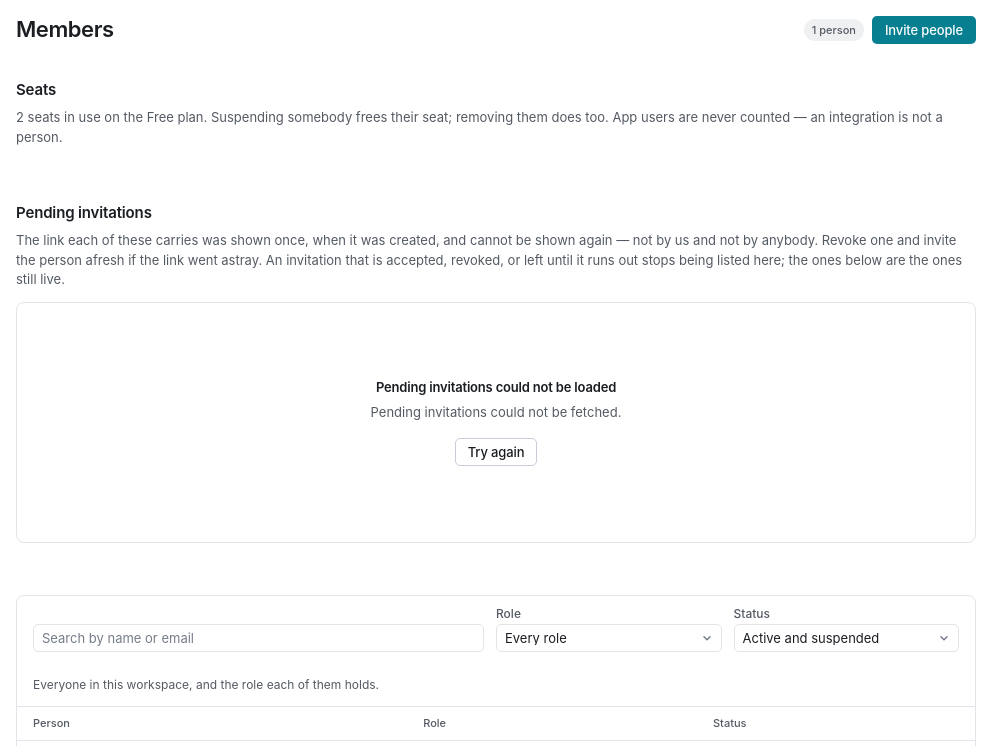
Test: MemberSettings · pending invitations › says so when the list cannot be fetched, and asks again when told to
This screenshot has width=993, height=746.
Expected: the text "Pending invitations could not be loaded" is shown, [376,378,616,395]
Click the button "Try again" at (496, 452), box [455,438,537,466]
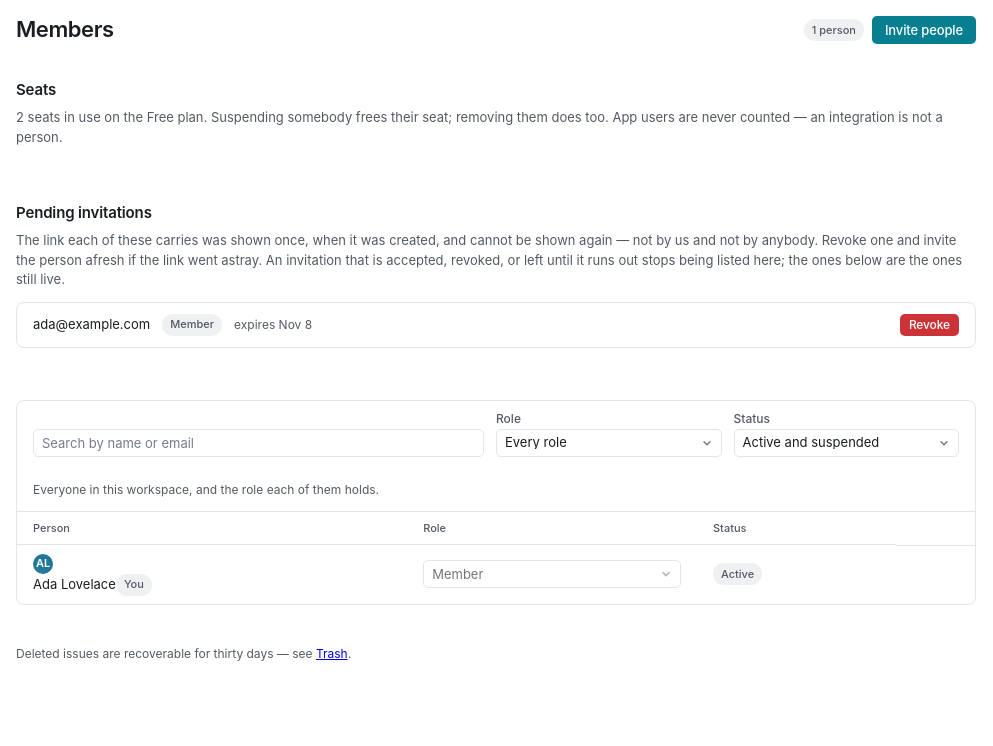
Expected: the button with aria-label "Revoke the invitation to ada@example.com" is shown, [900,314,959,336]
Expected: the text "Pending invitations could not be loaded" is gone
